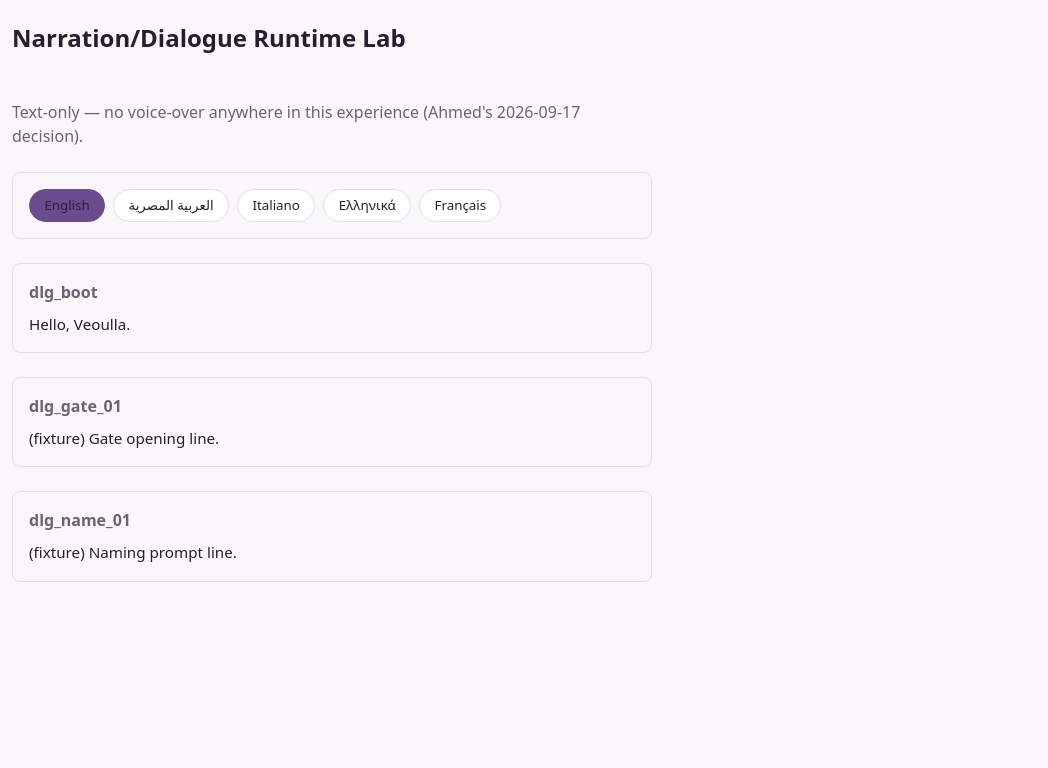
Test case: NarrativeRuntimeLab — switching locale › shows an English-fallback text and note when the selected locale has no row for a cue
The width and height of the screenshot is (1048, 768).
expect the element with test id "narrative-demo-dlg_boot" is shown: met, box top-left (12, 263), bottom-right (652, 353)
Click the button with test id "narrative-locale-button-ar-EG". click: (171, 205)
box: top-left (113, 189), bottom-right (229, 222)
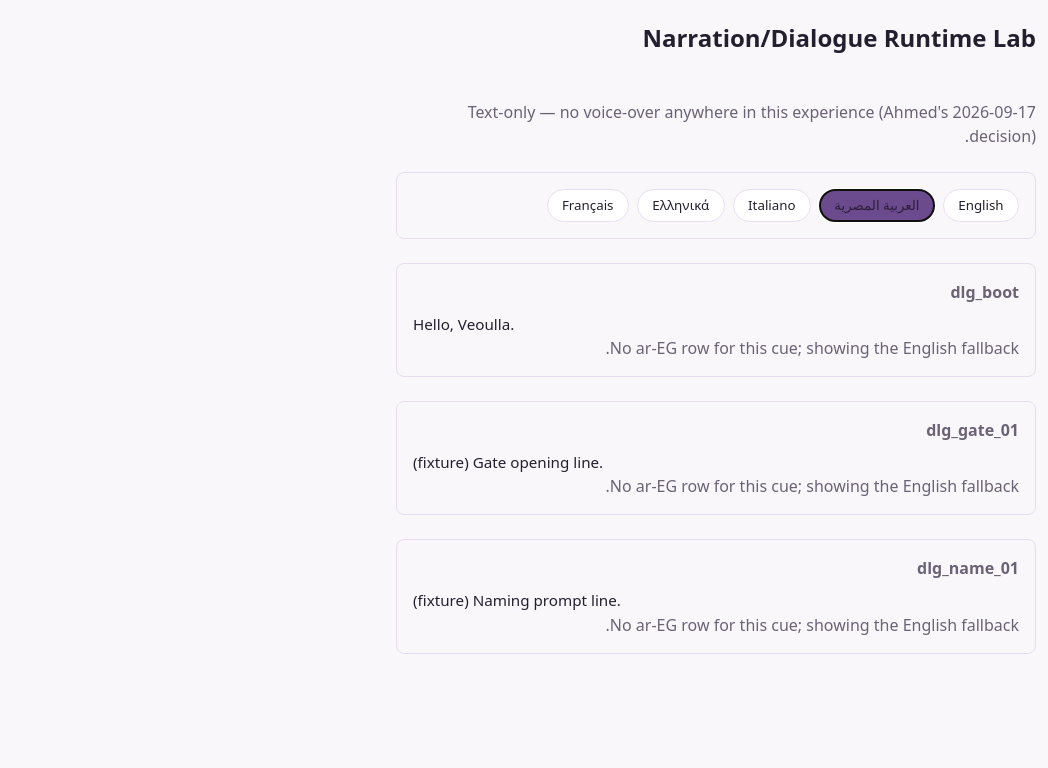
expect the text with test id "dialogue-text-line" reads "Hello, Veoulla.": met, box top-left (413, 314), bottom-right (514, 334)
expect the text with test id "dialogue-text-fallback-note" below "Hello, Veoulla." is shown: met, box top-left (606, 337), bottom-right (1019, 359)
